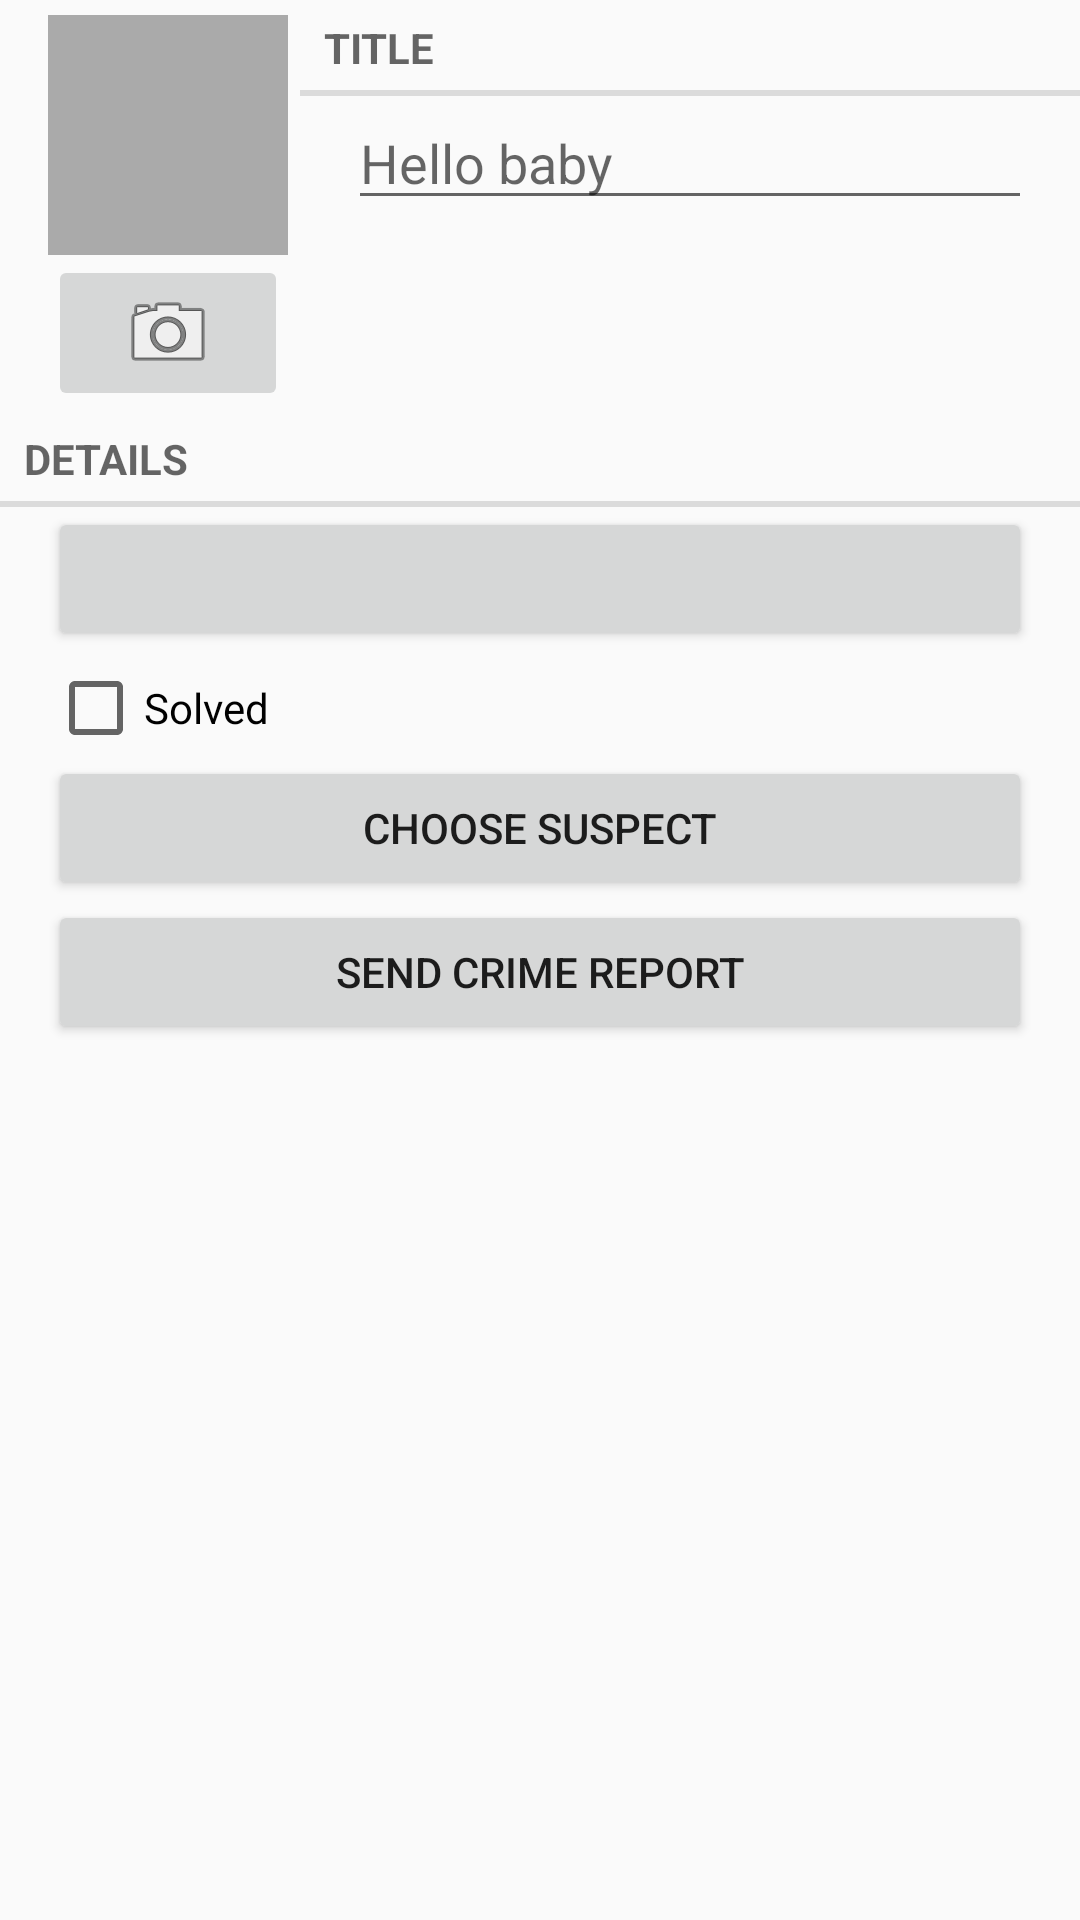

Icons on this 1080px x 1920px Android screen, each with the point to tap as [x,y]:
camera: [168,333]
